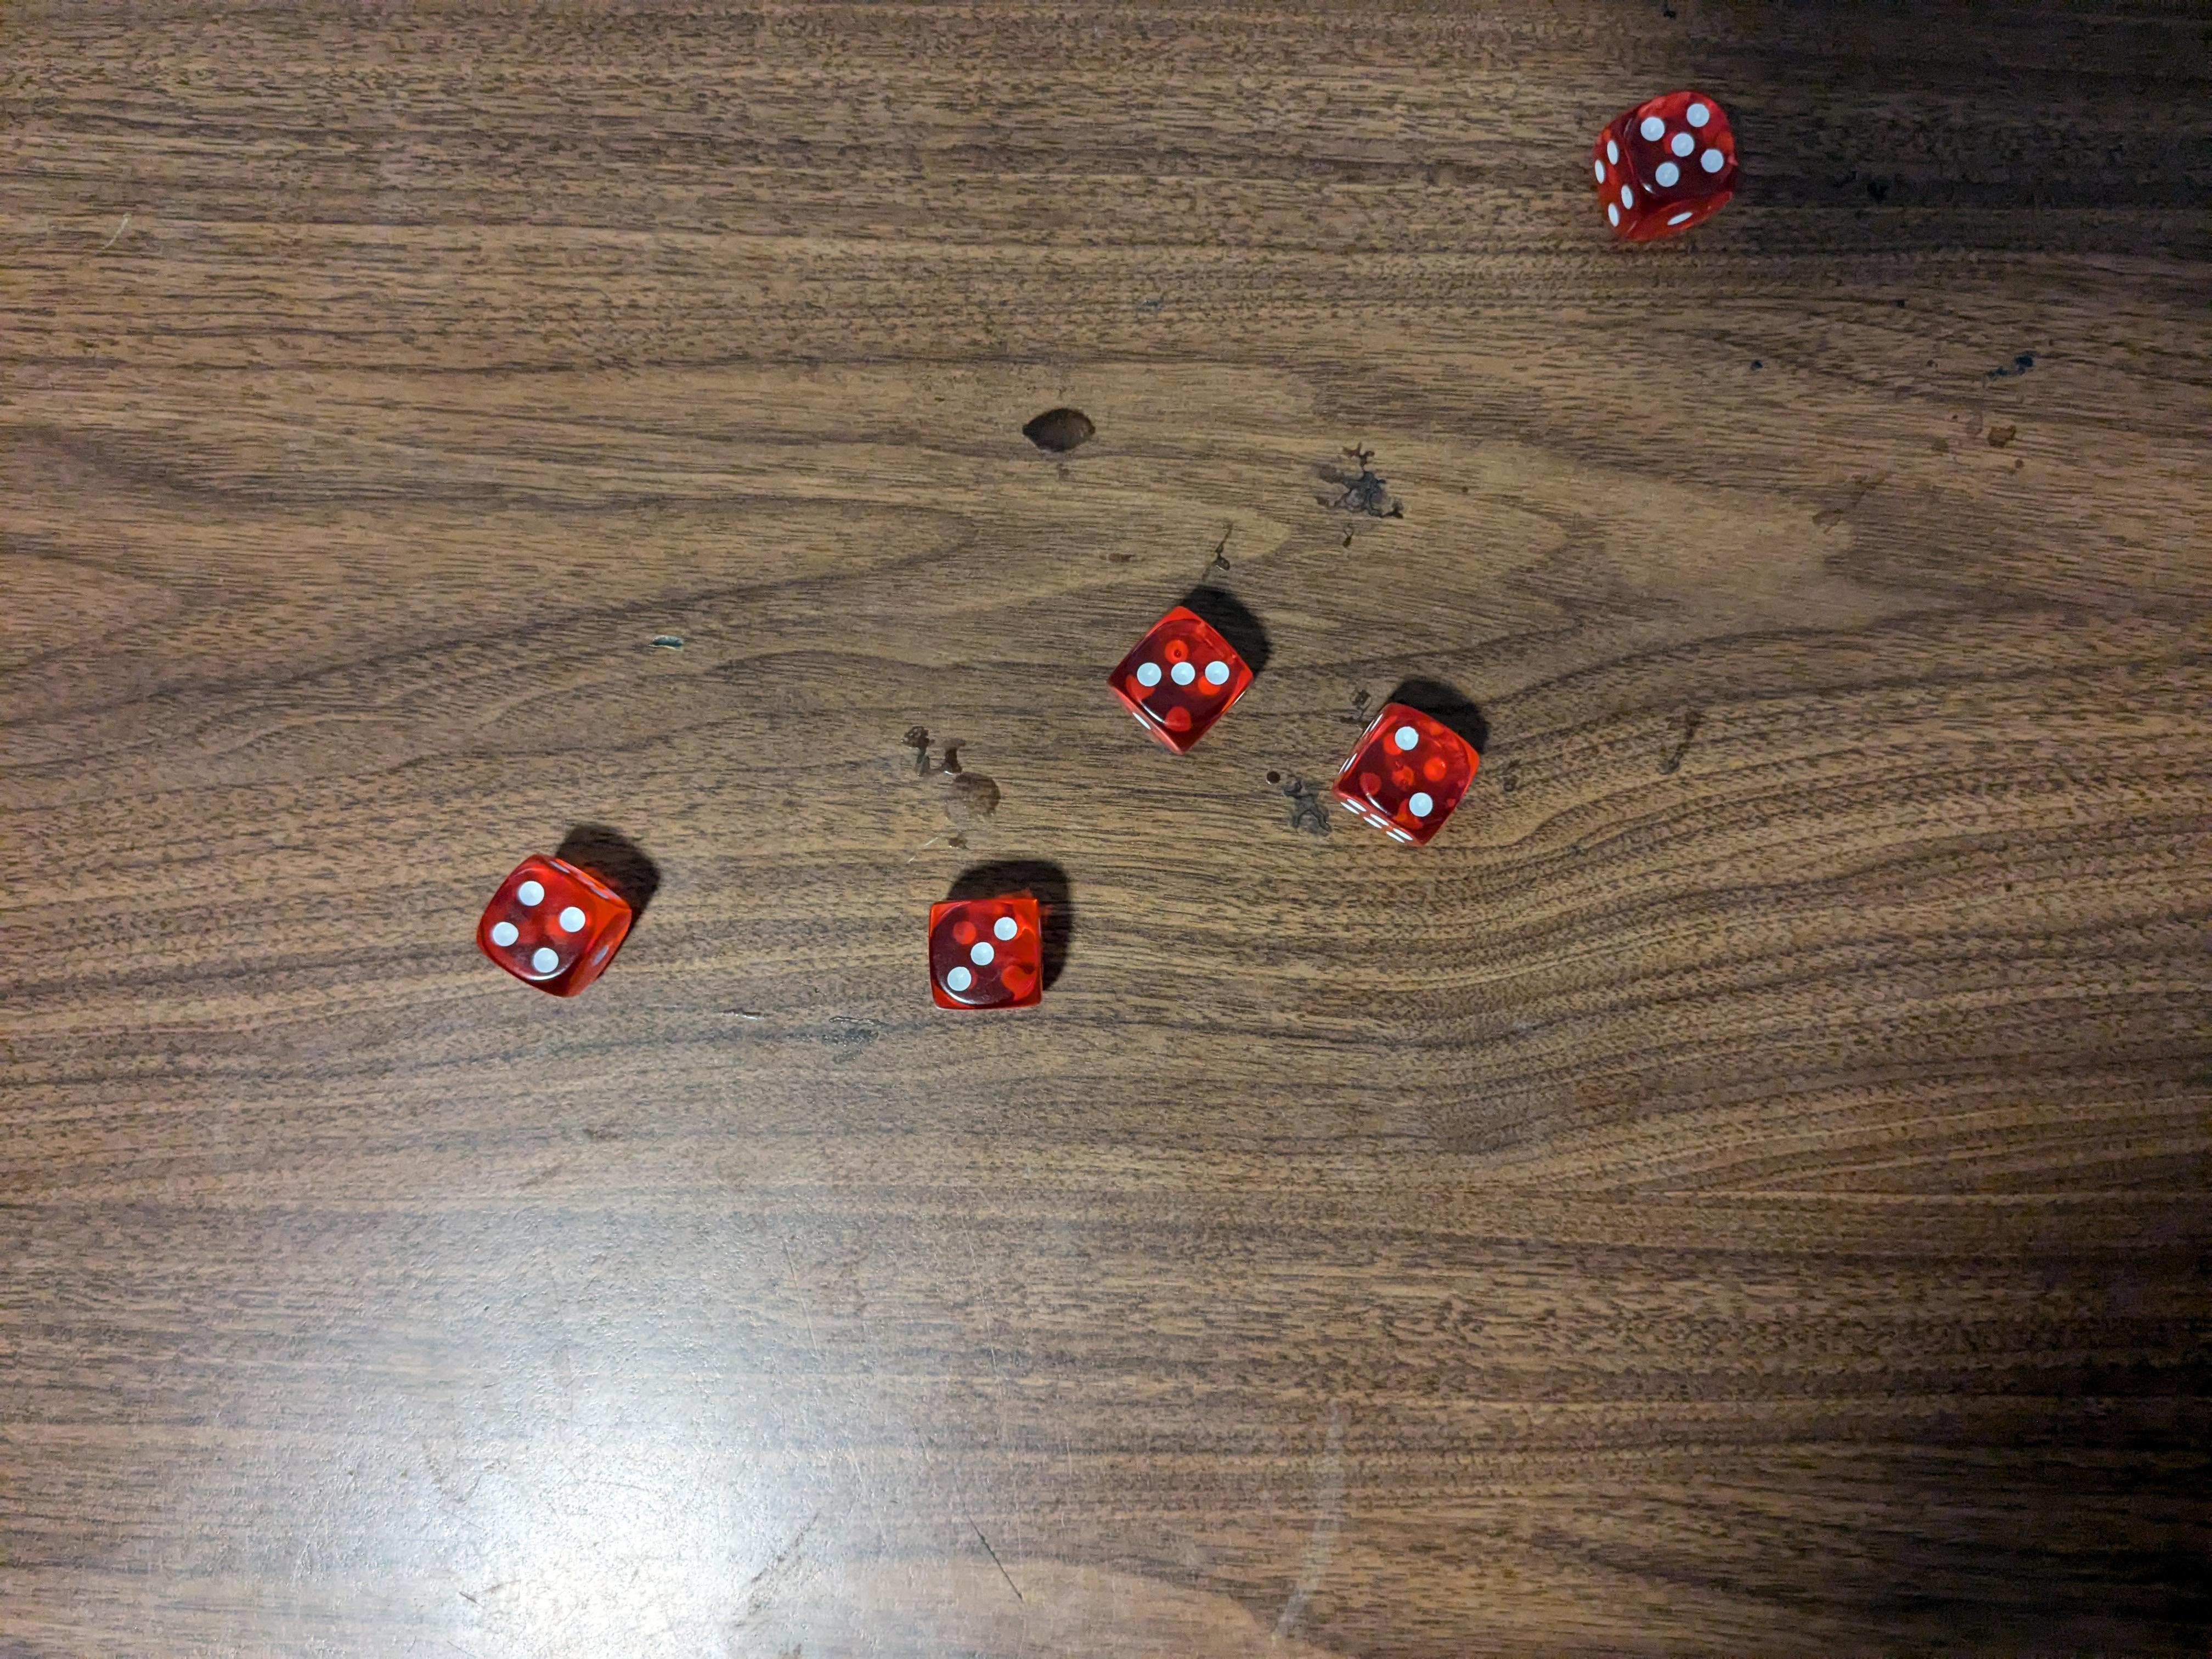five: (1595, 87, 1749, 246)
four: (472, 850, 629, 1007)
three: (1101, 601, 1261, 755), (921, 897, 1052, 1021)
two: (1329, 699, 1486, 850)
